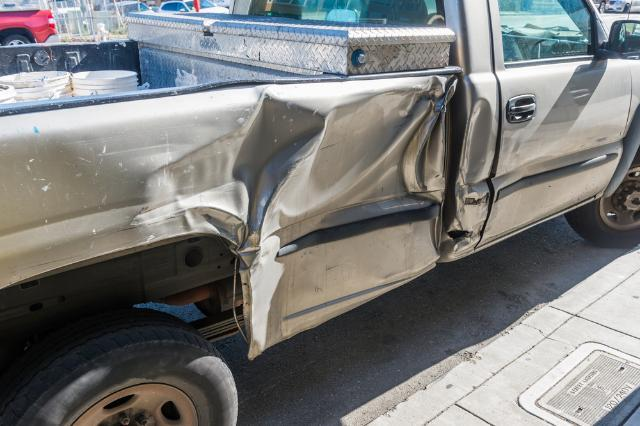crack: (446, 229, 472, 242)
dent: (0, 77, 457, 357), (494, 129, 623, 233), (455, 100, 494, 234)
